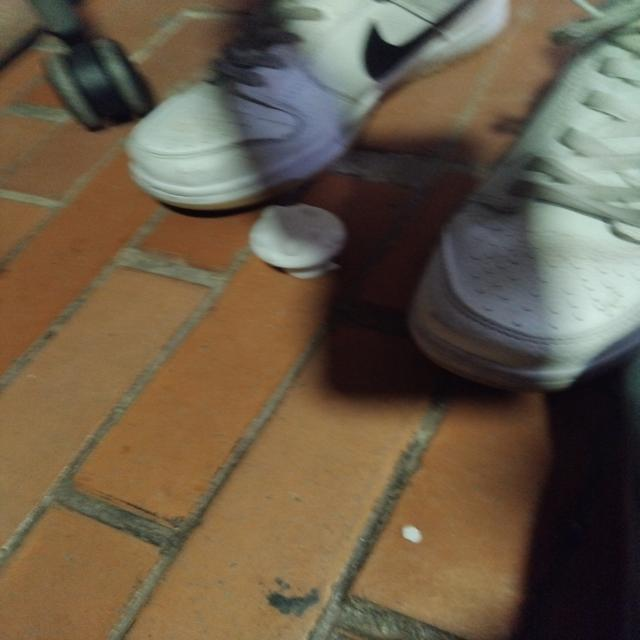Hongo: (231, 191, 365, 284)
